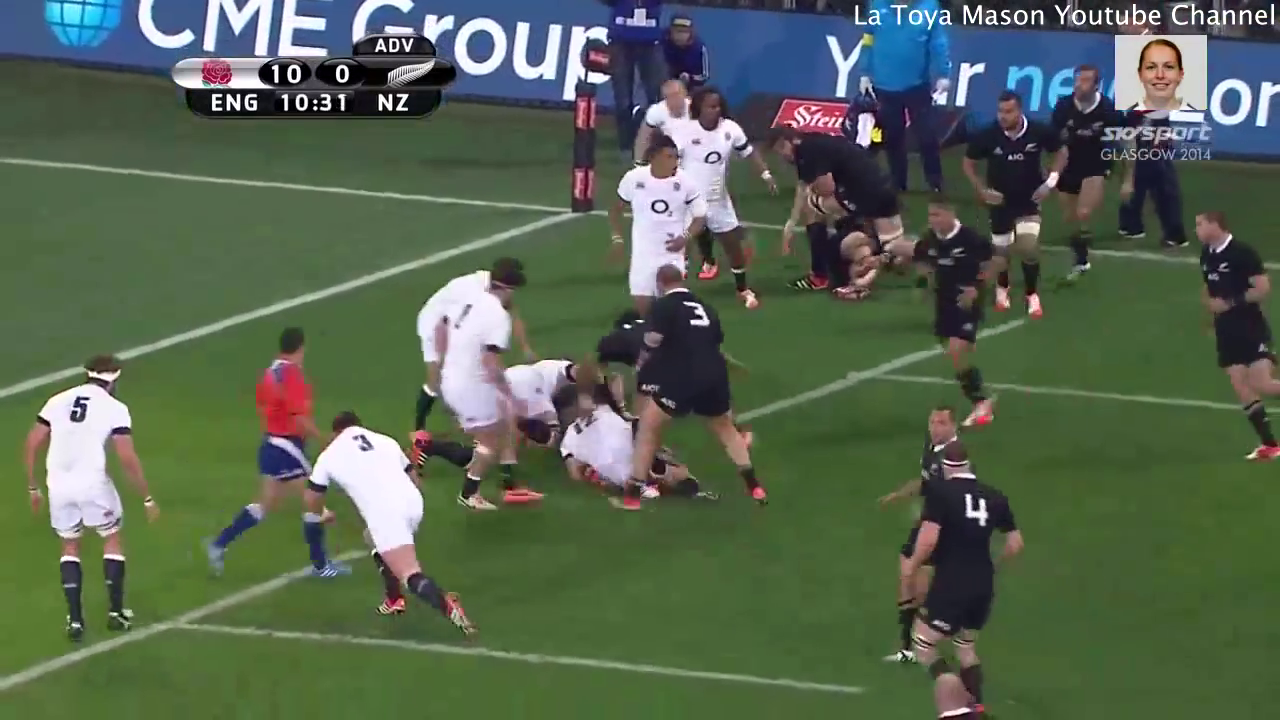player: (17, 346, 163, 652), (299, 407, 483, 644), (197, 320, 356, 584), (618, 256, 771, 511), (895, 440, 1027, 704), (1185, 204, 1280, 466), (900, 195, 1006, 429), (764, 120, 915, 277), (448, 260, 535, 521), (883, 400, 965, 669), (961, 81, 1050, 316), (1041, 53, 1126, 285), (680, 92, 762, 320), (600, 134, 695, 308), (557, 397, 661, 490), (635, 78, 689, 152)
